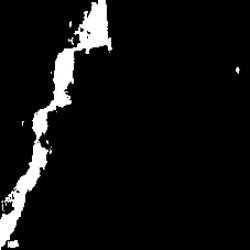crack: (3, 2, 114, 246)
pinhole: (233, 66, 241, 74)
